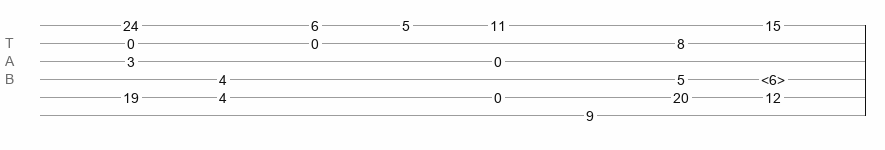0: (127, 36, 135, 46), (311, 36, 319, 46), (494, 54, 502, 64), (494, 90, 502, 100)
11: (490, 18, 506, 28)
12: (765, 90, 781, 100)
15: (765, 18, 781, 28)
19: (123, 90, 139, 100)
20: (673, 90, 689, 100)
24: (123, 18, 139, 28)
3: (127, 54, 135, 64)
4: (219, 90, 227, 100), (219, 72, 227, 82)
5: (402, 18, 410, 28), (677, 72, 685, 82)
6: (311, 18, 319, 28)
8: (677, 36, 685, 46)
9: (586, 108, 594, 118)
harmonic: (761, 72, 785, 82)
